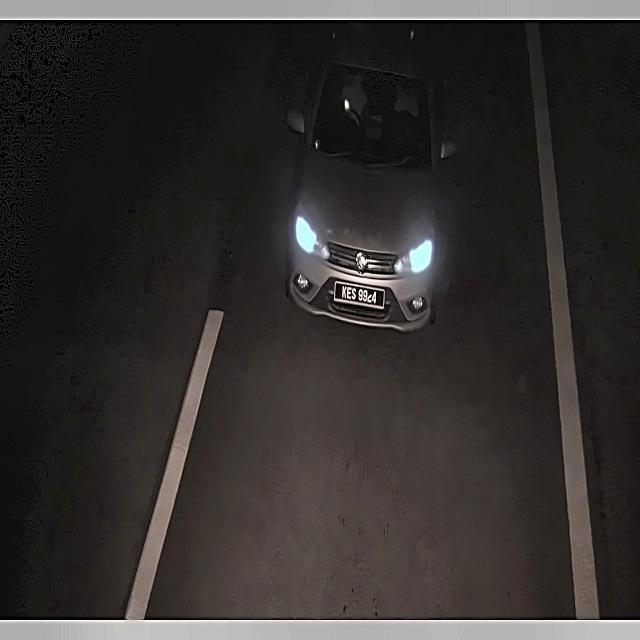car: (330, 275, 388, 315)
